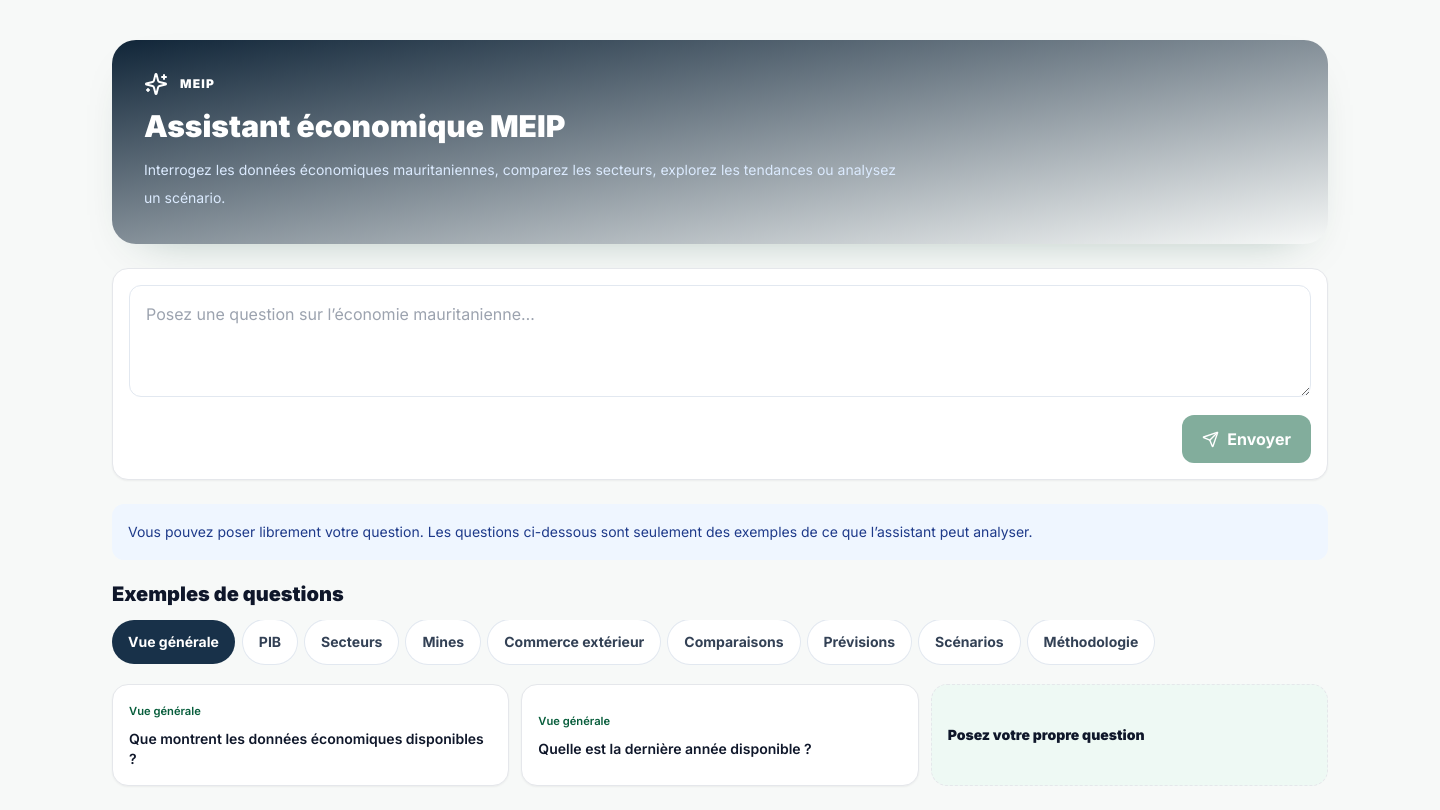
Test: shows a localized Assistant error
In the text box named "Votre question": x=720, y=341 [129, 285, 1311, 397], type "Question test"
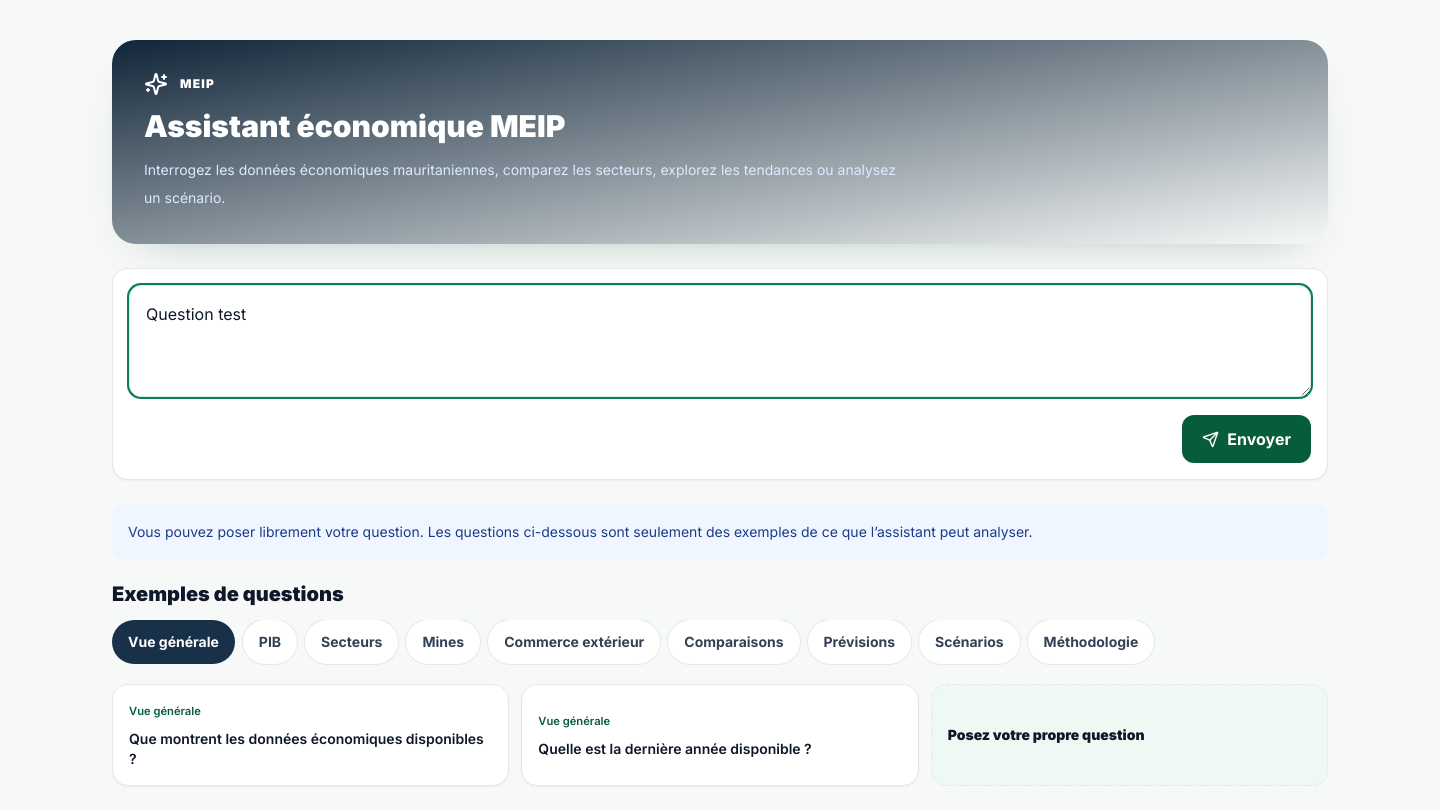
Click the button "Envoyer": x=1247, y=439 [1182, 415, 1311, 463]
(page scrolled)
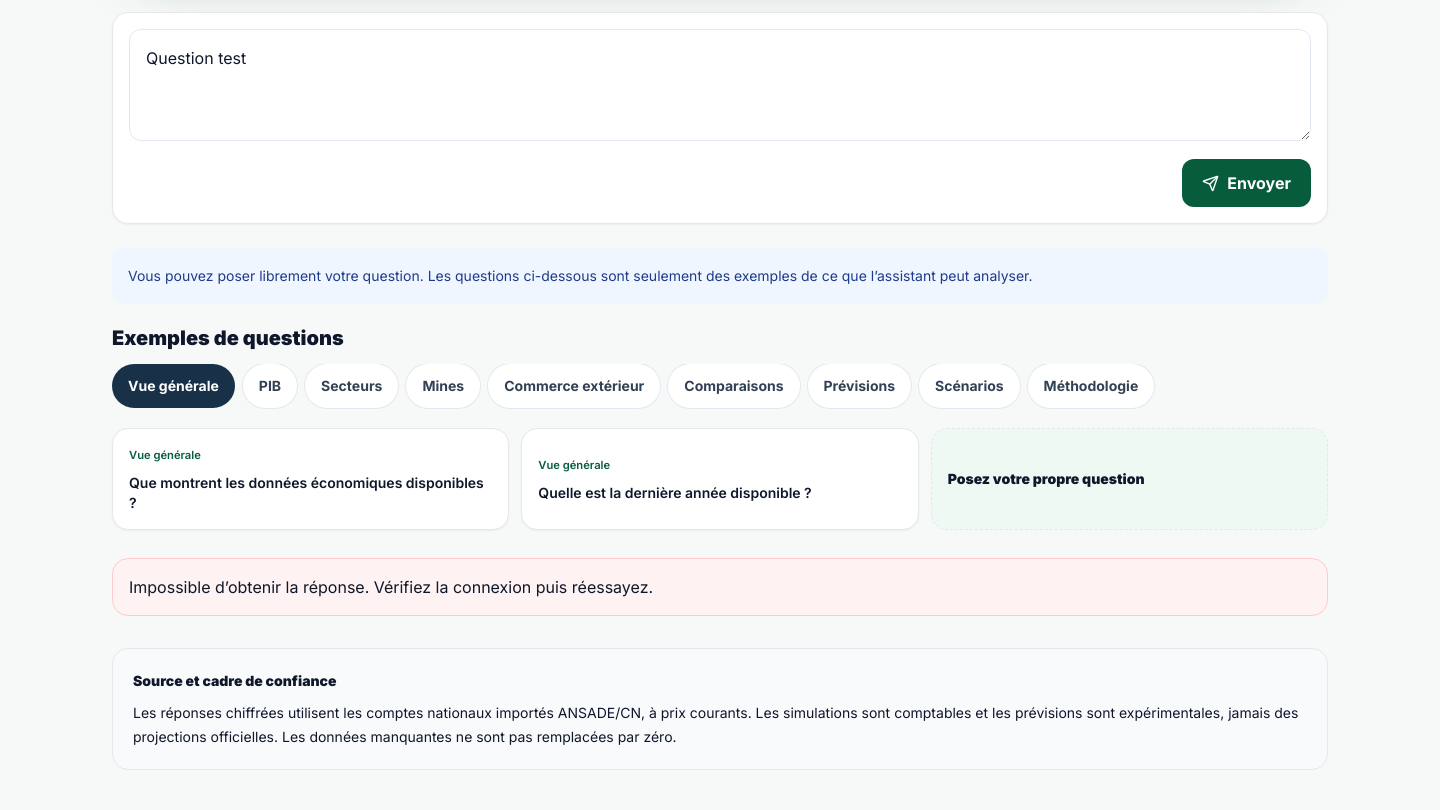
Now the message shows "Impossible d’obtenir la réponse", box [129, 577, 653, 597]
